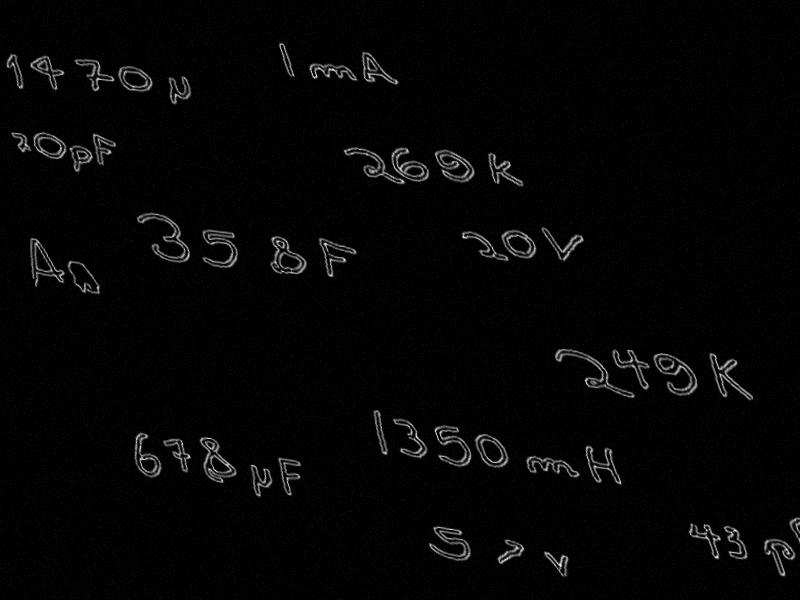0: (468, 428, 516, 473), (495, 226, 546, 264), (111, 61, 159, 96), (26, 128, 73, 162)
1: (362, 404, 398, 458), (0, 51, 33, 92), (272, 39, 302, 81)
2: (548, 343, 641, 403), (337, 141, 407, 188), (456, 226, 512, 262)
3: (129, 206, 199, 269), (385, 413, 434, 462), (714, 521, 756, 566)
4: (606, 345, 663, 395), (681, 518, 732, 562), (23, 52, 75, 94)
5: (186, 223, 252, 274), (424, 420, 479, 473), (416, 519, 478, 566)
6: (120, 427, 171, 484), (382, 143, 437, 188)
7: (71, 54, 123, 98), (483, 532, 536, 573), (158, 434, 198, 475), (8, 129, 35, 154)
8: (188, 432, 245, 488), (255, 231, 315, 280)
9: (648, 349, 706, 402), (430, 146, 484, 187)
A: (18, 234, 76, 298), (351, 48, 402, 88)
F: (309, 234, 371, 284), (270, 454, 318, 501), (85, 131, 128, 170), (782, 513, 800, 562)
H: (576, 439, 628, 487)
V: (538, 225, 595, 268), (539, 547, 578, 582)
k: (700, 349, 757, 403), (480, 150, 529, 190)
m: (520, 451, 585, 482), (302, 58, 362, 86)
p: (756, 534, 800, 582), (63, 142, 103, 178)
u: (241, 461, 285, 505), (157, 72, 201, 110)
